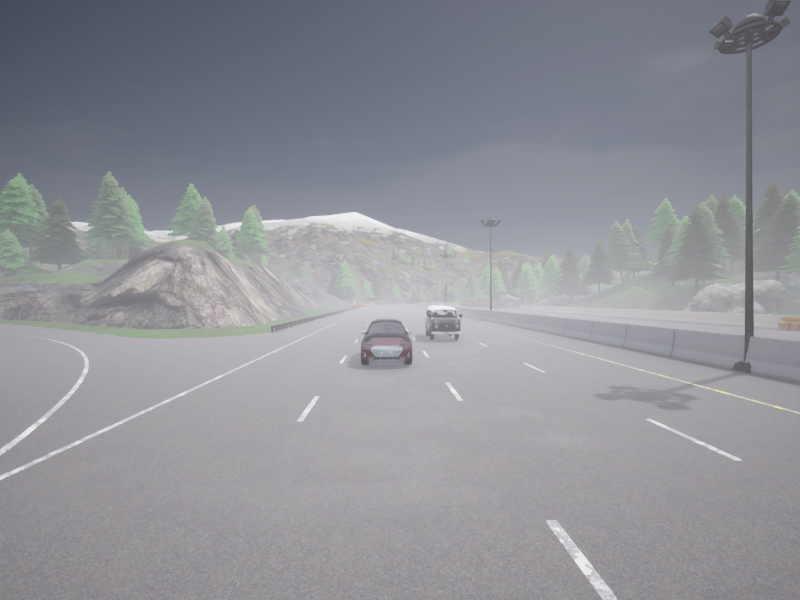vehicle: (361, 317, 412, 364), (425, 306, 461, 339)
